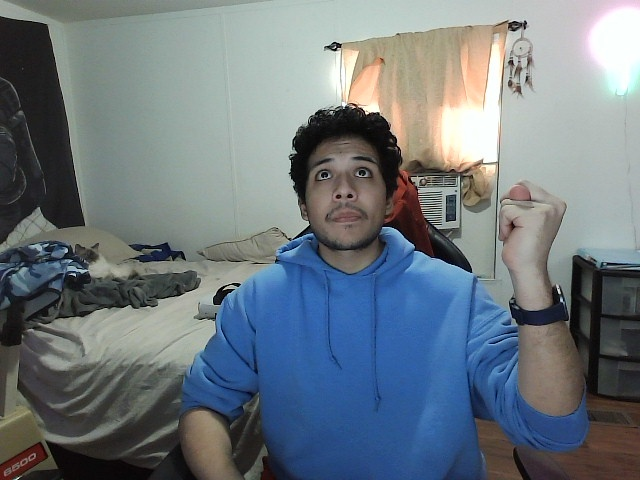N: (493, 180, 570, 270)
